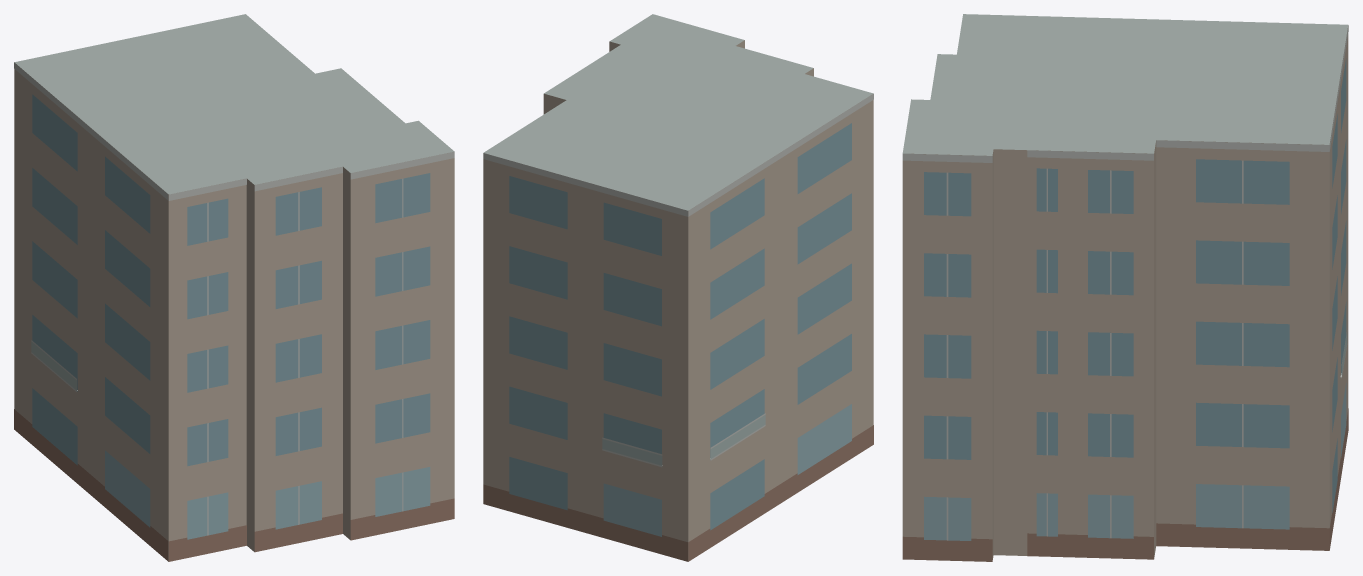
File: survey-upis-32658214.glb
3 views of the same model, side by side, from view 1: azimuth 30°, elevation 25°; view 2: azimuth 150°, elevation 25°; view 3: azimuth 270°, elevation 25° (orthographic). The views are drawn at different scales.
Visible parts, largest first — view 1: survey-upis-32658214.tmp; view 2: survey-upis-32658214.tmp; view 3: survey-upis-32658214.tmp.
Part boxes in pixels (bbox=[...]): survey-upis-32658214.tmp: bbox=[14, 14, 454, 561]; survey-upis-32658214.tmp: bbox=[483, 14, 873, 561]; survey-upis-32658214.tmp: bbox=[902, 14, 1348, 561].
Bounding box in the file's own units: 10.43 × 13.9 × 13.84.
